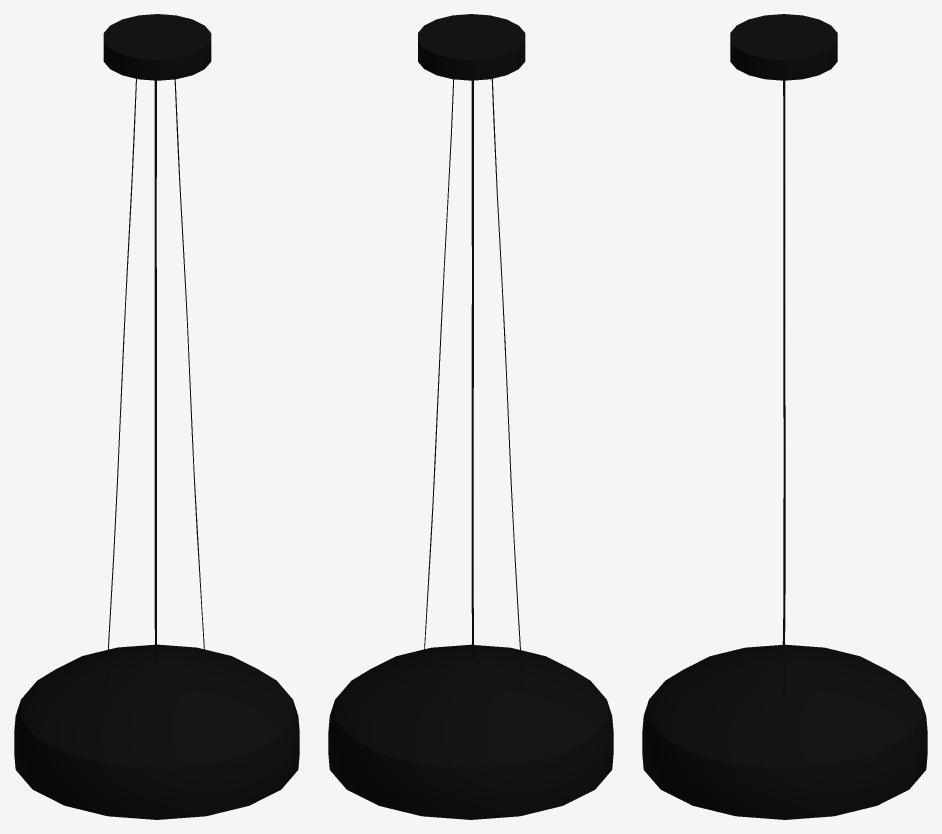
Rendered from Ceiling lamp.FBX.
3 views of the same model, side by side, from view 1: azimuth 30°, elevation 25°; view 2: azimuth 150°, elevation 25°; view 3: azimuth 270°, elevation 25° (orthographic).
Parts seen in each view (by area): view 1: Ceiling lamp; view 2: Ceiling lamp; view 3: Ceiling lamp.
Part boxes in pixels (<box>): Ceiling lamp: <box>14,14,299,819</box>; Ceiling lamp: <box>328,14,613,819</box>; Ceiling lamp: <box>642,14,927,819</box>.
Bounding box in the file's own units: 45.14 × 124 × 44.46.
2 materials, 1 textured.
